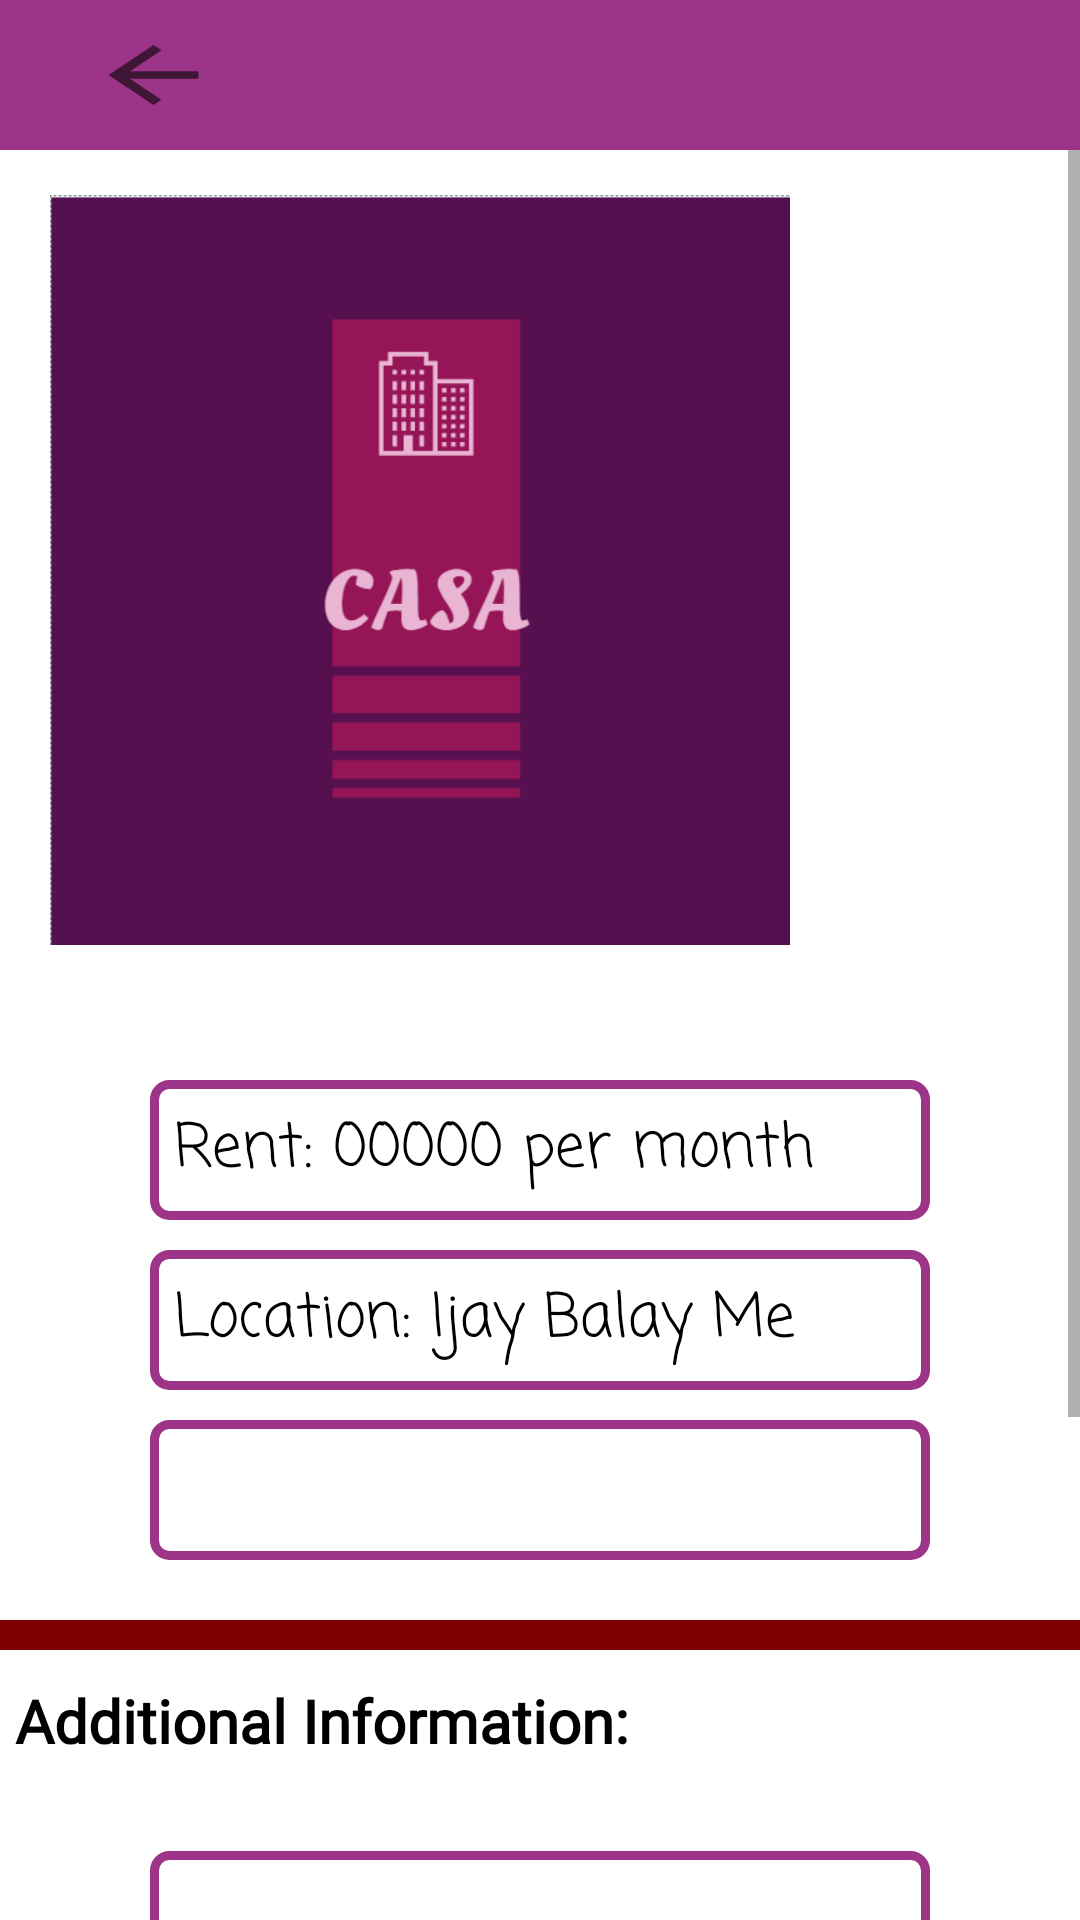

Where to tap for icons on this 1080x1920 app screen, as (x=x, y=y):
arrow back: (x=154, y=75)
